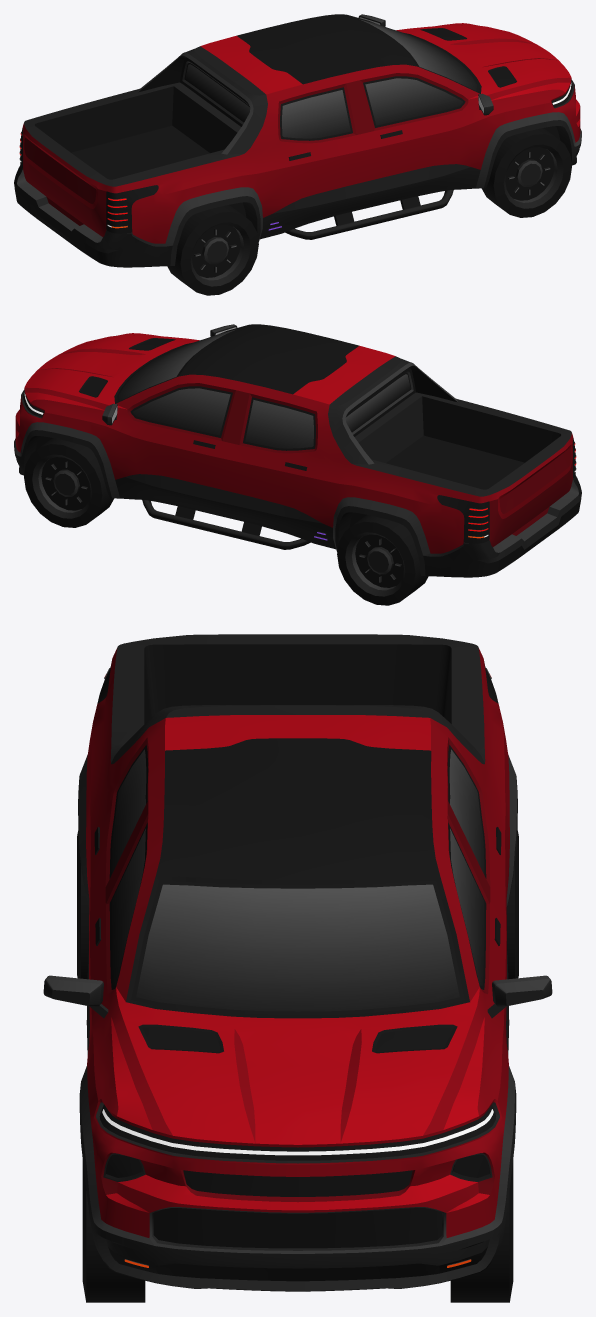
File: Car_009.glb
The picture shows the model from 3 angles, top to bottom: view 1: azimuth 30°, elevation 25°; view 2: azimuth 150°, elevation 25°; view 3: azimuth 270°, elevation 25°; orthographic projection. The views are drawn at different scales.
Visible parts, largest first — view 1: Car_009, wheel_3_Car_009_Wheel_2R, wheel_1_Car_009_Wheel_1R; view 2: Car_009, wheel_2_Car_009_Wheel_2L, wheel_0_Car_009_Wheel_1L; view 3: Car_009, wheel_0_Car_009_Wheel_1L, wheel_1_Car_009_Wheel_1R, wheel_2_Car_009_Wheel_2L, wheel_3_Car_009_Wheel_2R.
Boxes of the visible parts, x1,y1,x2,y2 form: Car_009: (14,14,581,267); wheel_3_Car_009_Wheel_2R: (167,205,258,295); wheel_1_Car_009_Wheel_1R: (481,128,571,217); Car_009: (14,324,581,577); wheel_2_Car_009_Wheel_2L: (337,515,428,605); wheel_0_Car_009_Wheel_1L: (24,438,114,527); Car_009: (43,634,552,1291); wheel_0_Car_009_Wheel_1L: (450,1160,513,1302); wheel_1_Car_009_Wheel_1R: (82,1160,145,1302); wheel_2_Car_009_Wheel_2L: (506,831,518,979); wheel_3_Car_009_Wheel_2R: (77,831,89,979).
Size of the model in its own units: 5.66 by 1.85 by 2.48.
2 materials, 2 textured.
